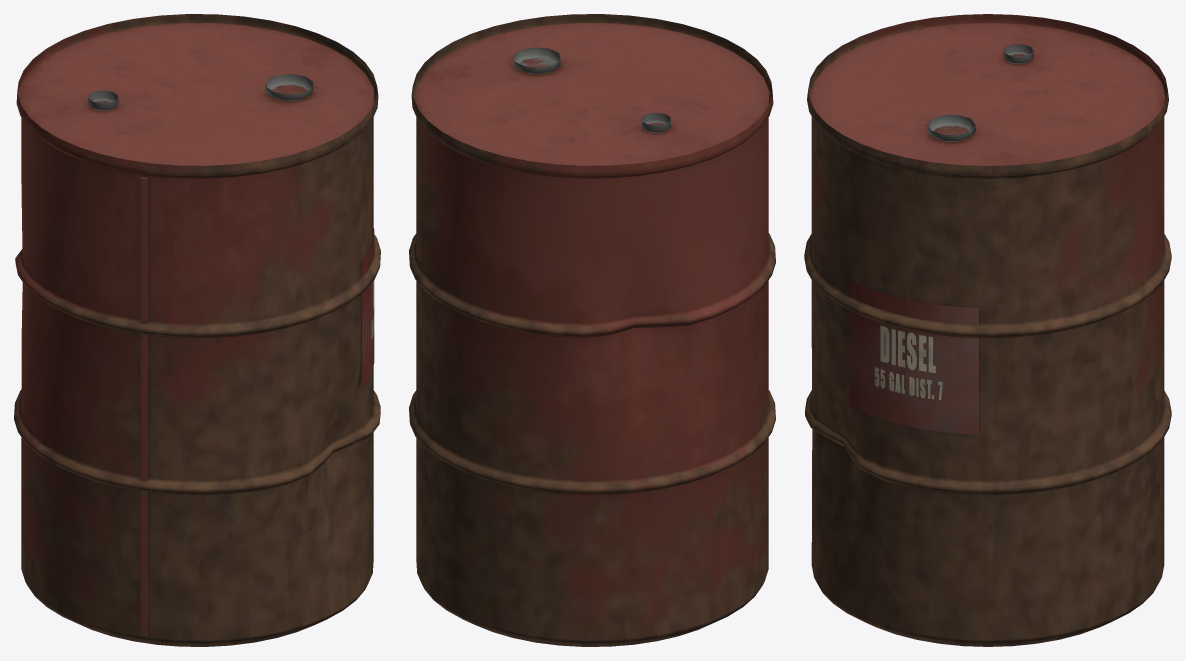
The model's file is drum.glb.
The picture shows the model from 3 angles, left to right: view 1: azimuth 30°, elevation 25°; view 2: azimuth 150°, elevation 25°; view 3: azimuth 270°, elevation 25°; orthographic projection.
Visible parts, largest first — view 1: drum; view 2: drum; view 3: drum.
Boxes of the visible parts, box(x1,y1,x2,y2) form: drum: box(14, 14, 380, 646); drum: box(409, 14, 775, 646); drum: box(804, 14, 1171, 646).
Size of the model in its own units: 0.604 by 0.892 by 0.604.
1 material, 1 textured.
